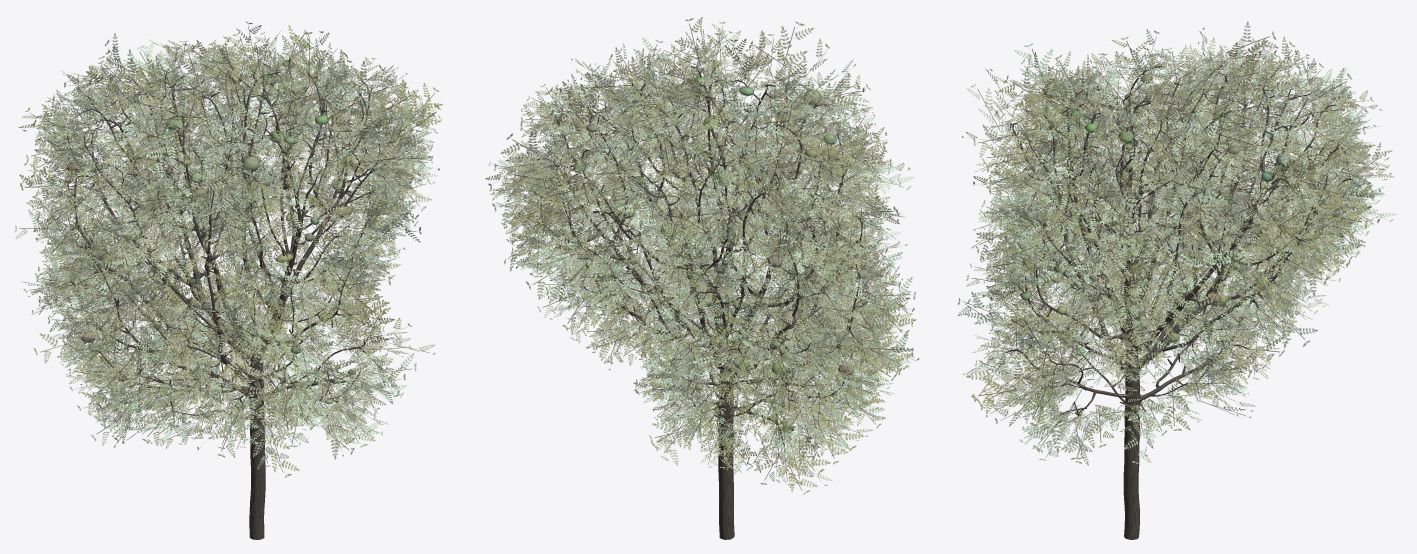
Rendered from tree_23_broadleaf.glb.
3 views of the same model, side by side, from view 1: azimuth 30°, elevation 25°; view 2: azimuth 150°, elevation 25°; view 3: azimuth 270°, elevation 25° (orthographic). The views are drawn at different scales.
Parts seen in each view (by area): view 1: tree_23_broadleaf.leaves, tree_23_broadleaf.trunk_branches, tree_23_broadleaf.foliage_volume; view 2: tree_23_broadleaf.leaves, tree_23_broadleaf.trunk_branches, tree_23_broadleaf.foliage_volume; view 3: tree_23_broadleaf.leaves, tree_23_broadleaf.trunk_branches, tree_23_broadleaf.foliage_volume.
Boxes of the visible parts, bbox=[...] form: tree_23_broadleaf.leaves: bbox=[15, 21, 442, 477]; tree_23_broadleaf.trunk_branches: bbox=[67, 59, 402, 539]; tree_23_broadleaf.foliage_volume: bbox=[66, 60, 355, 417]; tree_23_broadleaf.leaves: bbox=[485, 17, 919, 494]; tree_23_broadleaf.trunk_branches: bbox=[533, 64, 869, 539]; tree_23_broadleaf.foliage_volume: bbox=[573, 76, 854, 433]; tree_23_broadleaf.leaves: bbox=[957, 21, 1397, 465]; tree_23_broadleaf.trunk_branches: bbox=[1005, 65, 1352, 539]; tree_23_broadleaf.foliage_volume: bbox=[1020, 73, 1291, 415].
Size of the model in its own units: 12.02 by 14.19 by 11.71.
Materials: 3 (2 with a texture image).
